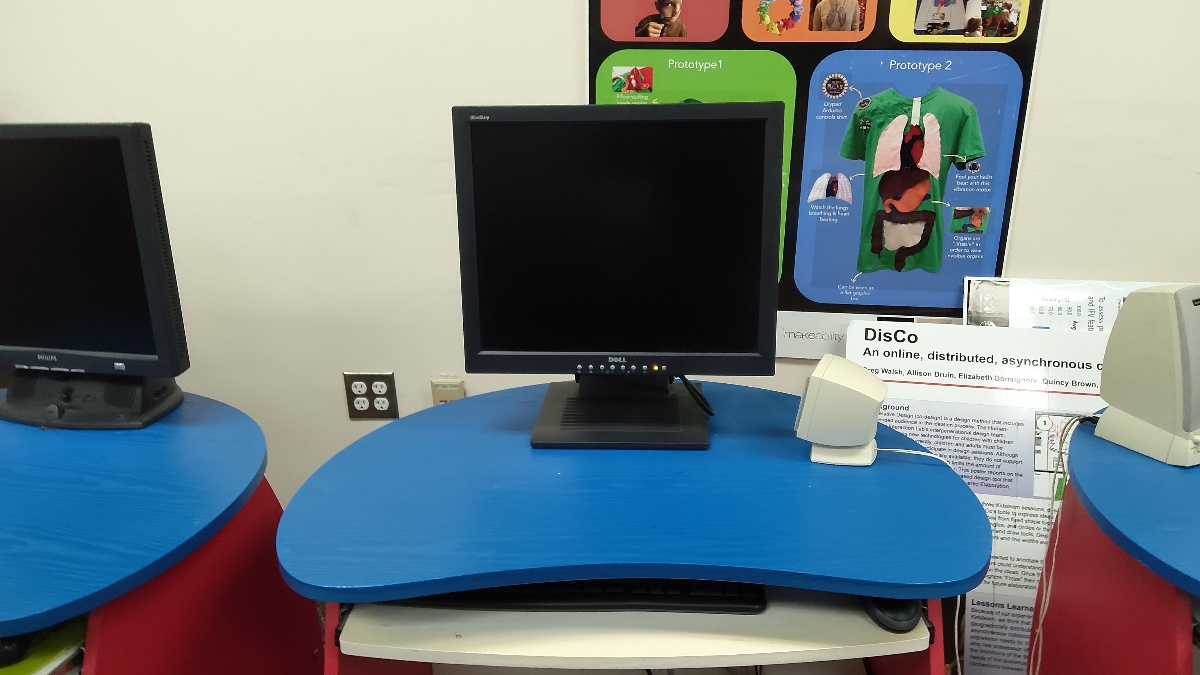monitor: (447, 94, 787, 383)
